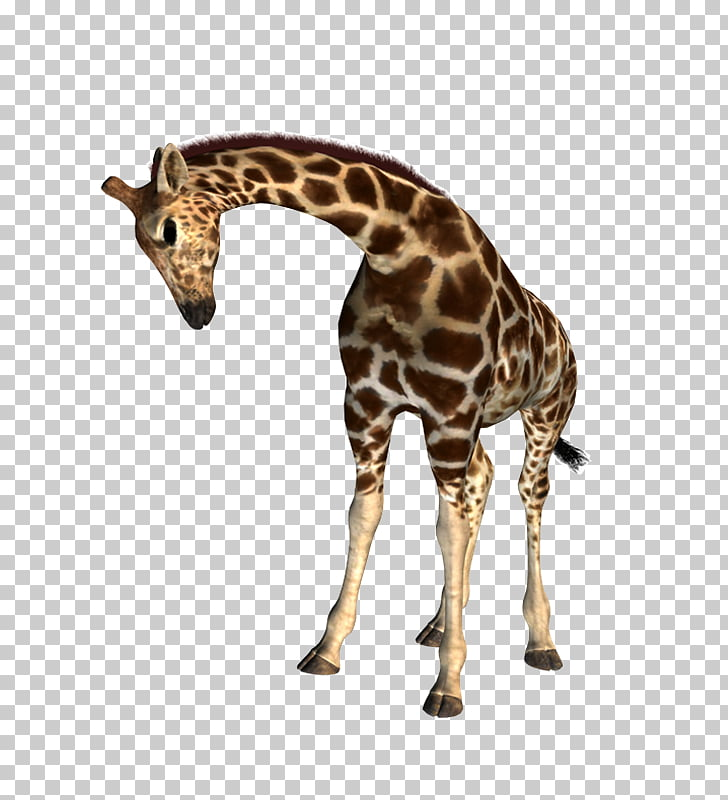Jirafa: (101, 113, 661, 723)
